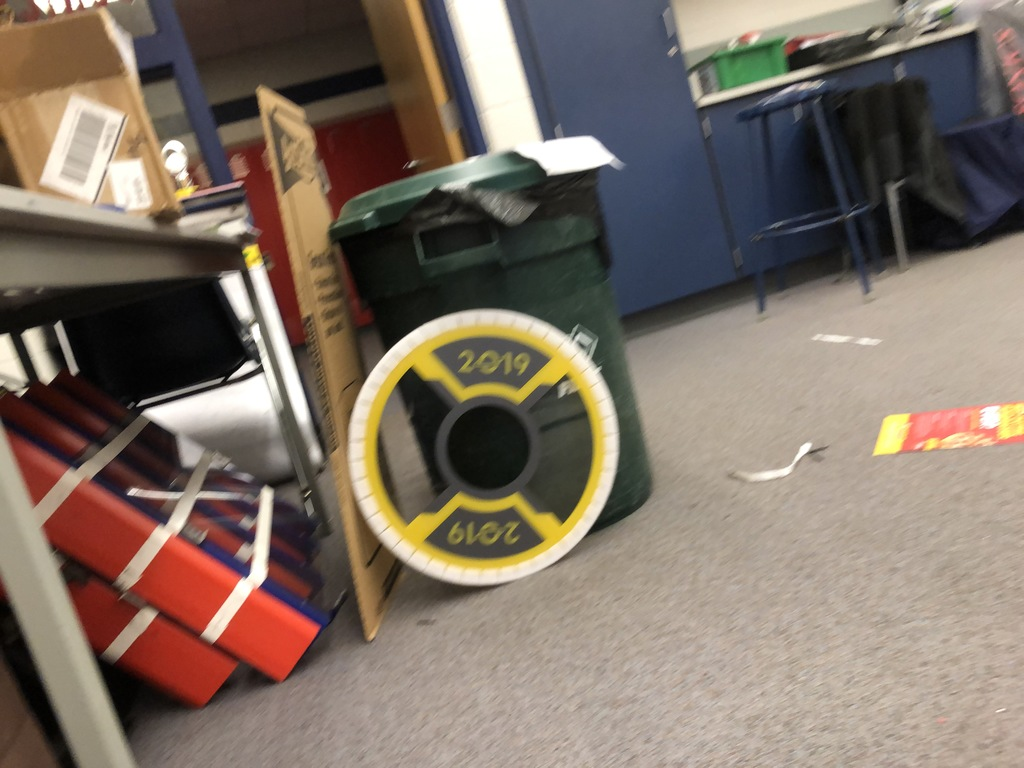hatch_panel: (334, 299, 626, 595)
